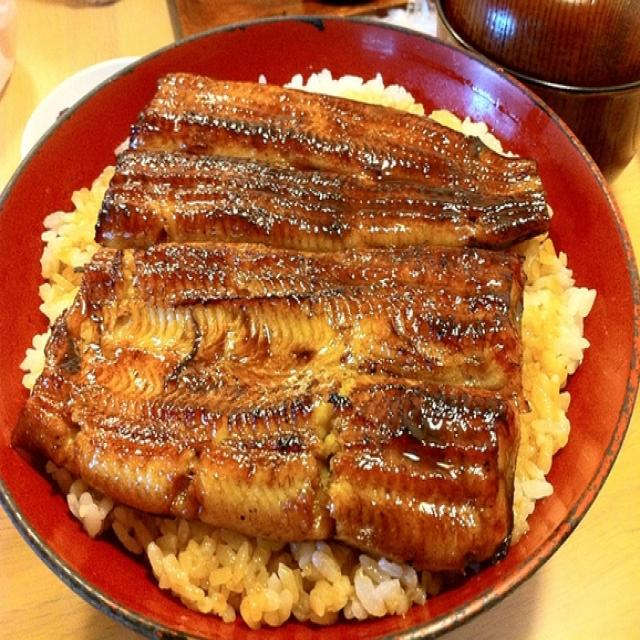熟制海鲜: (5, 18, 636, 626)
